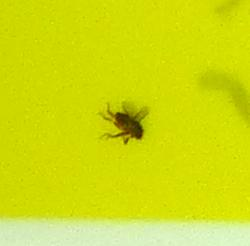Brachycera: (100, 100, 150, 146)
